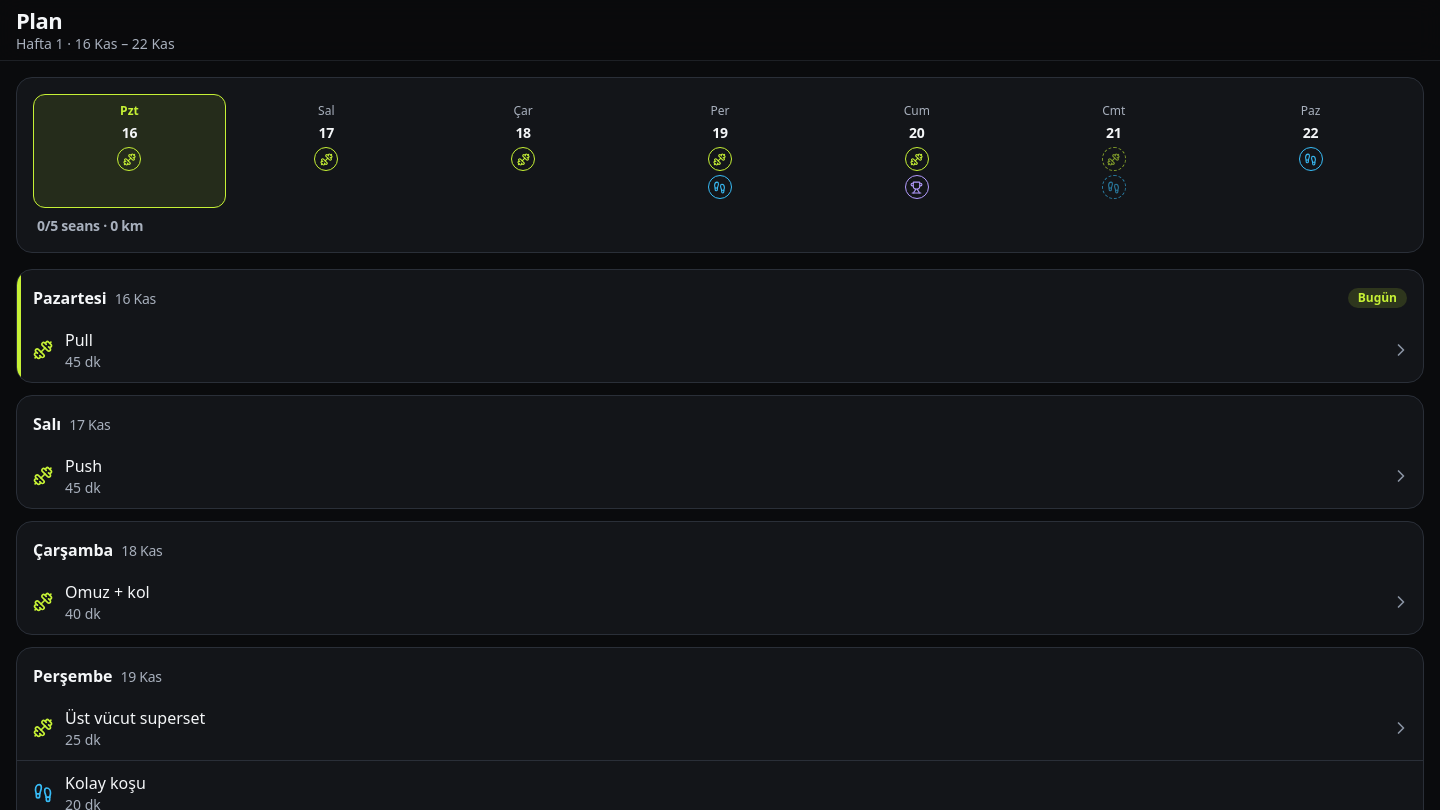
Scenario: PlanScreen session sheet › shows every exercise in order with the plan start load before any history
Click the button "Push 45 dk" at [84, 466], box [17,444,1423,508]
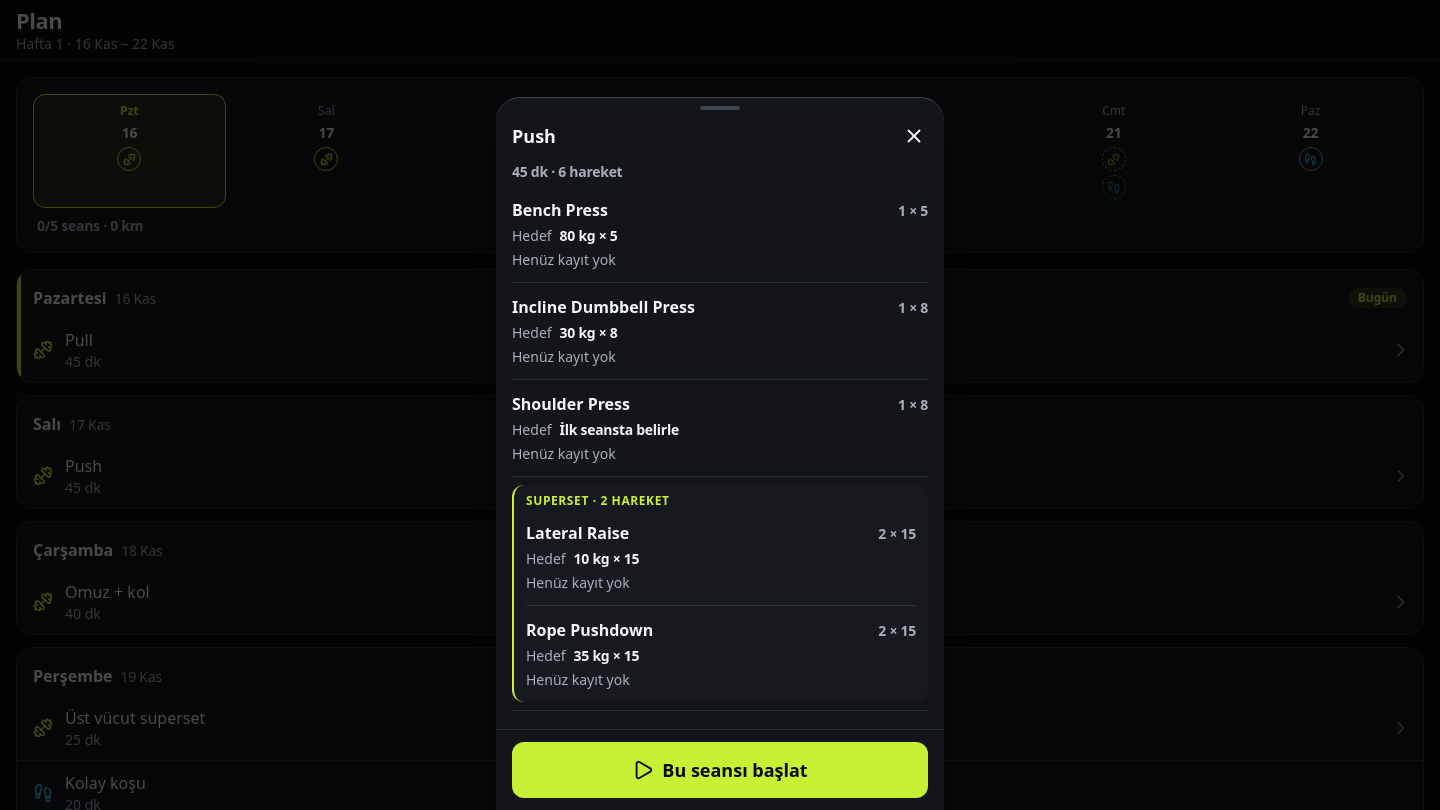
Check: the list item "Lateral Raise" is shown, box [526,509,916,606]
Check: the list item "Rope Pushdown" is shown, box [526,606,916,702]
Check: the text "1 × 5" is shown, box [898,201,928,221]
